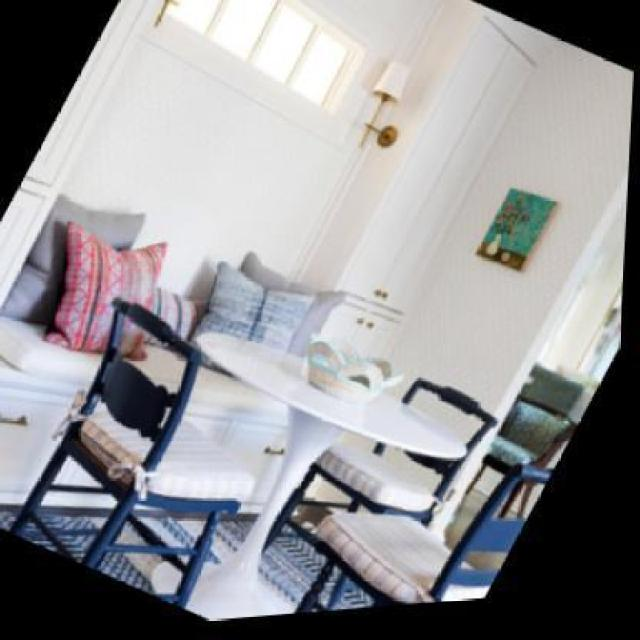tables: (192, 329, 468, 588)
